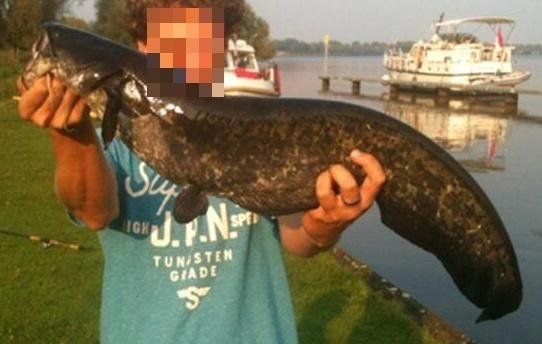Catfish: (22, 3, 520, 301)
